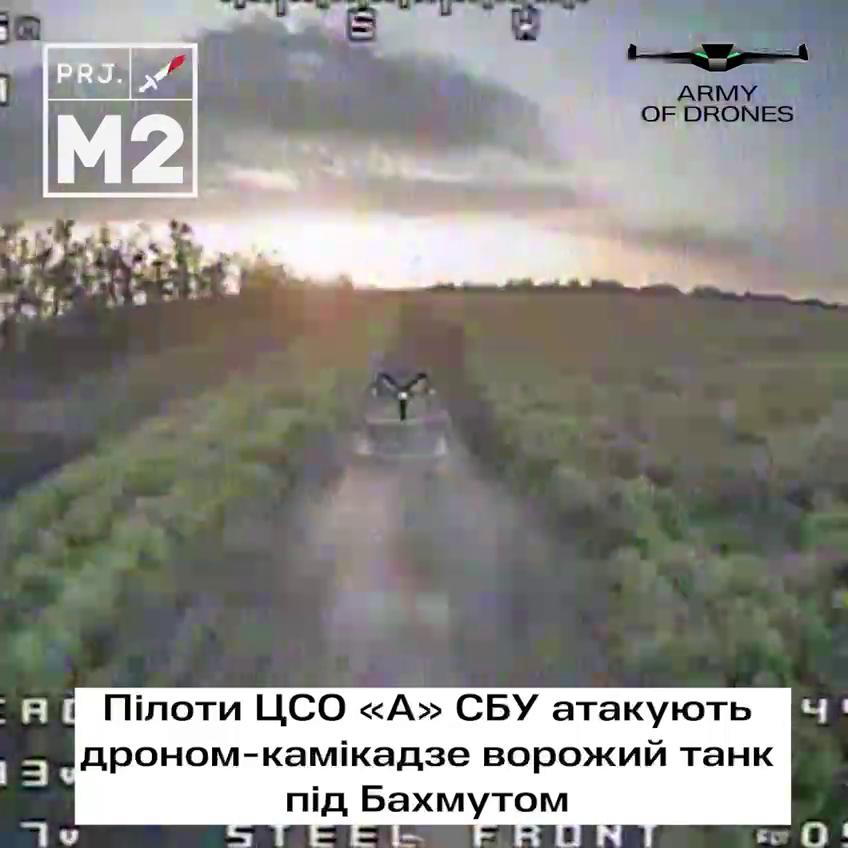tank: (345, 368, 458, 520)
